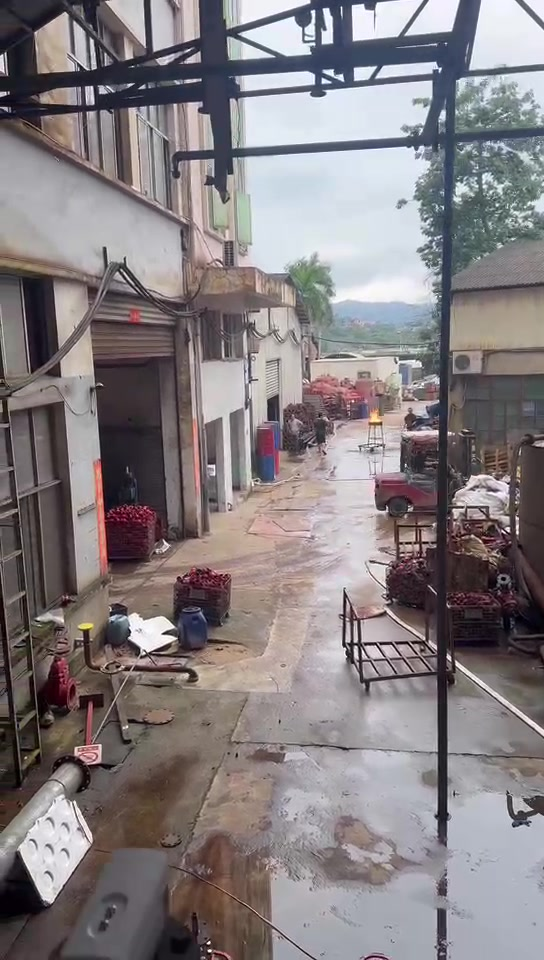fire: (368, 408, 381, 422)
